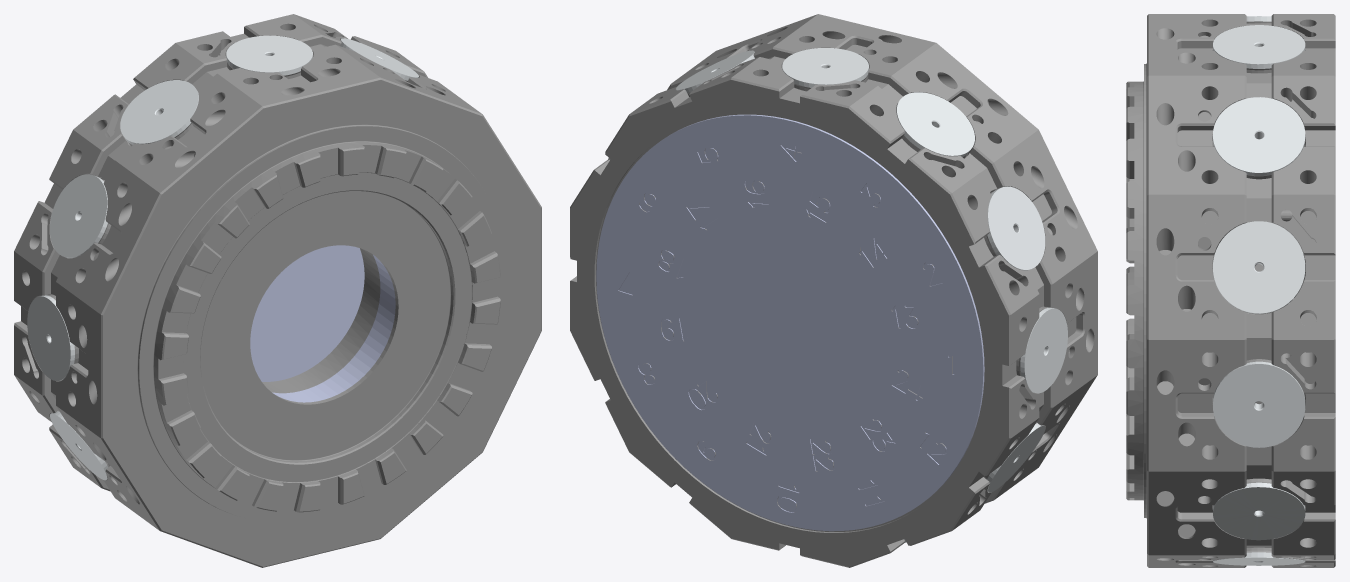
The model's file is turret-cad.glb.
3 renders of one model, left to right at view 1: azimuth 30°, elevation 25°; view 2: azimuth 150°, elevation 25°; view 3: azimuth 270°, elevation 25°, orthographic. The views are drawn at different scales.
Visible parts, largest first — view 1: SOLID, Faceplate_1, Plug_2, Plug, SOLID_1, Plug_4, Plug_22, Plug_6, Plug_20; view 2: Faceplate_1, SOLID, Plug_2, Plug, Plug_4, Plug_22, Plug_6, Plug_20; view 3: SOLID, Plug_18, Plug_16, Plug_20, Plug_14, Plug_22, Plug_12.
Boxes of the visible parts, x1,y1,x2,y2 form: SOLID: (14,14,541,567); Faceplate_1: (250,245,364,381); Plug_2: (50,174,107,258); Plug: (120,80,198,144); SOLID_1: (272,255,395,402); Plug_4: (27,295,74,380); Plug_22: (226,35,312,75); Plug_6: (50,411,108,480); Plug_20: (340,38,418,80); Faceplate_1: (596,114,984,531); SOLID: (570,14,1097,567); Plug_2: (987,186,1045,270); Plug: (896,92,974,156); Plug_4: (1020,307,1067,393); Plug_22: (782,48,868,87); Plug_6: (987,423,1045,492); Plug_20: (676,50,754,92); SOLID: (1126,14,1335,567); Plug_18: (1212,221,1305,313); Plug_16: (1213,361,1305,447); Plug_20: (1212,97,1305,175); Plug_14: (1213,482,1305,540); Plug_22: (1213,25,1305,68); Plug_12: (1213,552,1305,565).
Size of the model in its own units: 0.3876 by 0.3876 by 0.1494.
